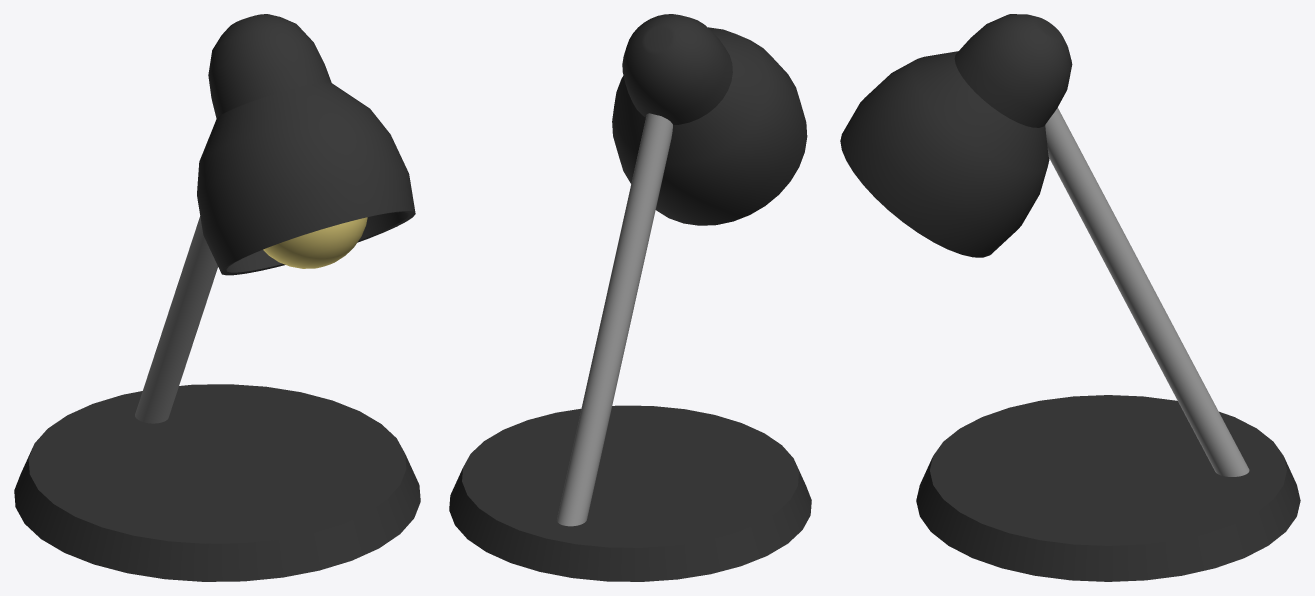
File: lamp.fbx
The picture shows the model from 3 angles, left to right: view 1: azimuth 30°, elevation 25°; view 2: azimuth 150°, elevation 25°; view 3: azimuth 270°, elevation 25°; orthographic projection. The views are drawn at different scales.
Parts seen in each view (by area): view 1: Cylinder, Cylinder.002, Cylinder.001, Sphere; view 2: Cylinder, Cylinder.002, Cylinder.001; view 3: Cylinder, Cylinder.002, Cylinder.001.
Boxes of the visible parts, x1,y1,x2,y2 form: Cylinder: [14, 384, 420, 581]; Cylinder.002: [197, 14, 415, 275]; Cylinder.001: [135, 216, 217, 423]; Sphere: [263, 217, 367, 268]; Cylinder: [449, 405, 811, 581]; Cylinder.002: [612, 14, 807, 225]; Cylinder.001: [557, 113, 672, 526]; Cylinder: [916, 395, 1300, 581]; Cylinder.002: [840, 14, 1072, 257]; Cylinder.001: [1045, 108, 1249, 476].
Bounding box in the file's own units: 108 × 149 × 129.
